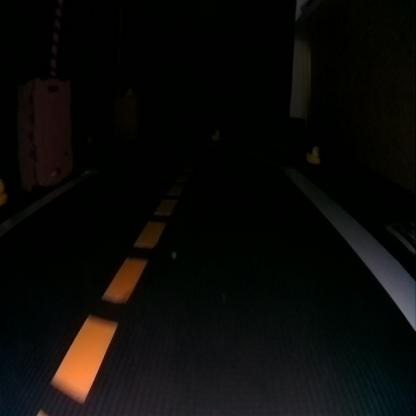Duckie: (305, 146, 320, 163), (211, 130, 219, 139)
